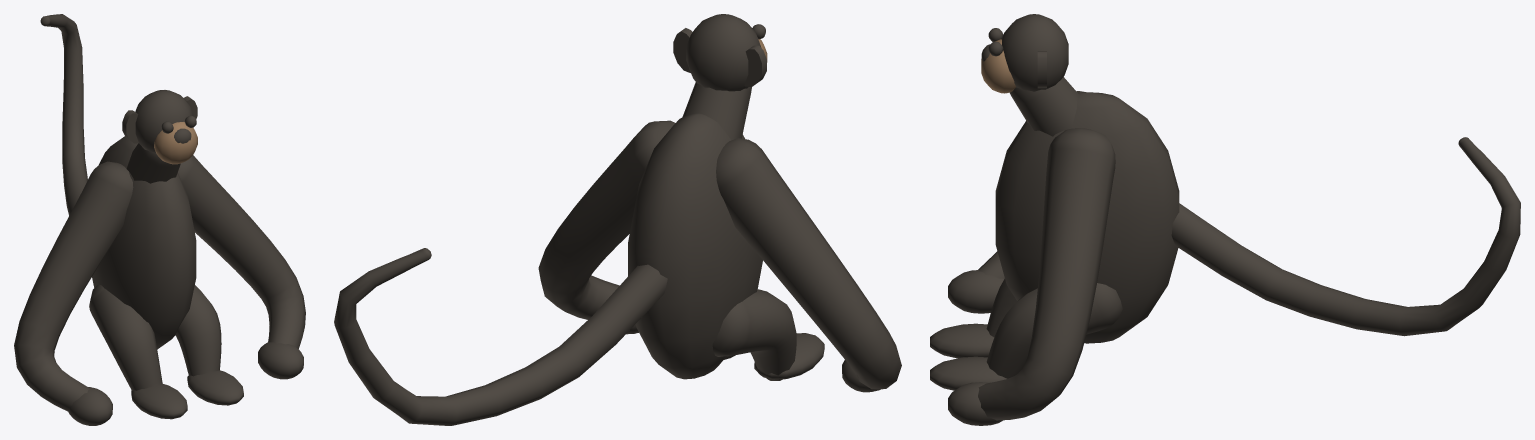
File: rainforest-and-jungle-fauna-spider-monkey-27be03e5__21681.glb
3 views of the same model, side by side, from view 1: azimuth 30°, elevation 25°; view 2: azimuth 150°, elevation 25°; view 3: azimuth 270°, elevation 25° (orthographic). The views are drawn at different scales.
Parts seen in each view (by area): view 1: spider-monkey; view 2: spider-monkey; view 3: spider-monkey.
Boxes of the visible parts, left/top/right/bottom form: spider-monkey: left=14, top=14, right=305, bottom=425; spider-monkey: left=334, top=14, right=901, bottom=425; spider-monkey: left=930, top=14, right=1520, bottom=425.
Size of the model in its own units: 0.7952 by 0.7948 by 1.2.
